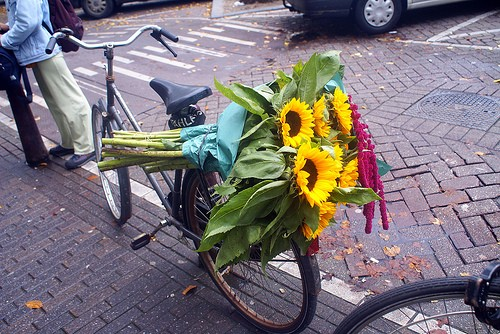flower: (289, 144, 337, 208), (279, 97, 313, 149)
